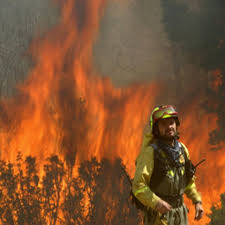fire: (19, 1, 127, 225)
smoke: (145, 10, 197, 75)
